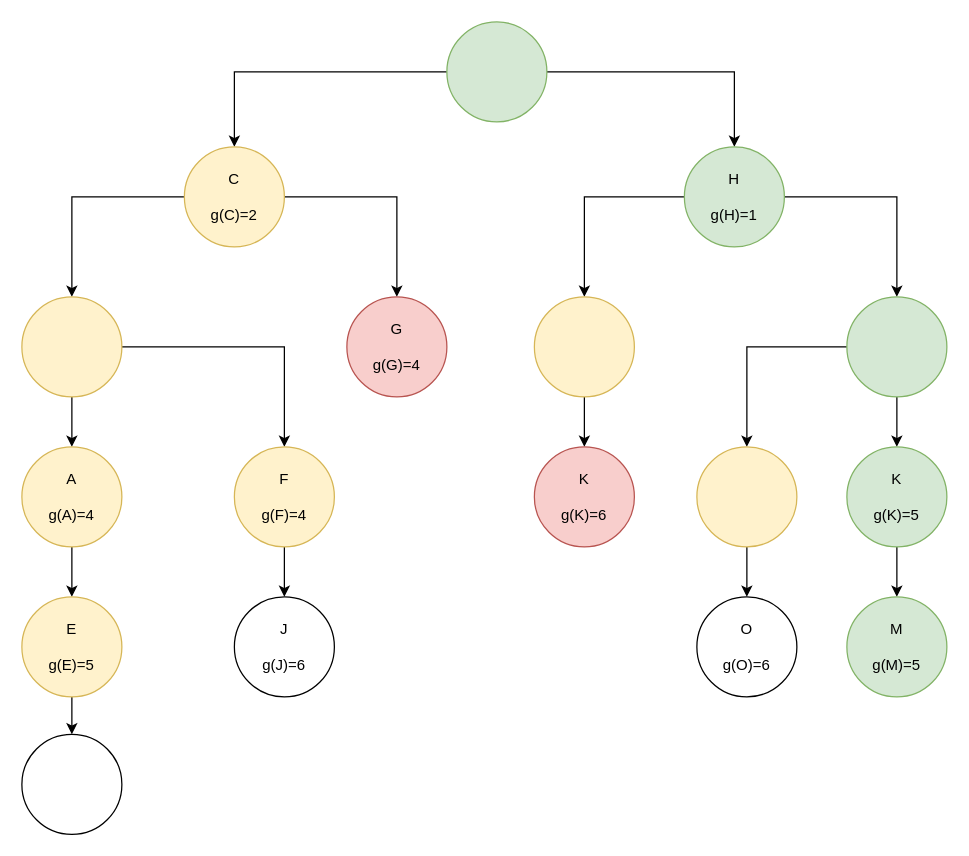
Some shapes in this 969 by 856 pixel diagram are drawn without their labels. Here are the shapes that lost their labels. From the top down, the centre of each, then its label:
At point 496,71: "D g(D)=0".
At point 71,346: "B g(B)=3".
At point 583,346: "G g(G)=3".
At point 896,346: "L g(L)=2".
At point 746,496: "P g(P)=4".
At point 71,783: "I g(I)=6".
